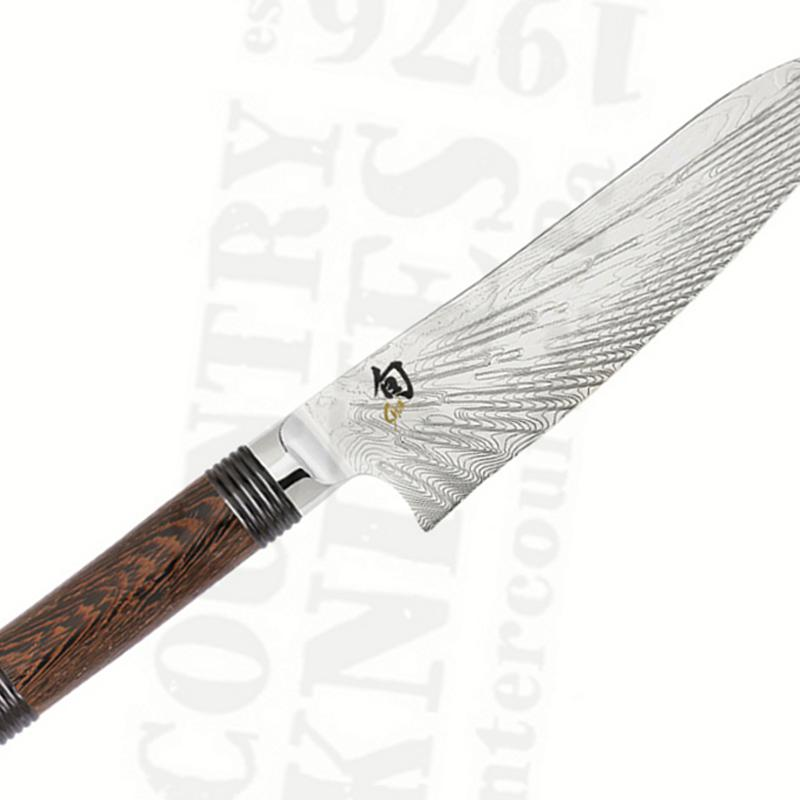knife: (5, 55, 799, 739)
